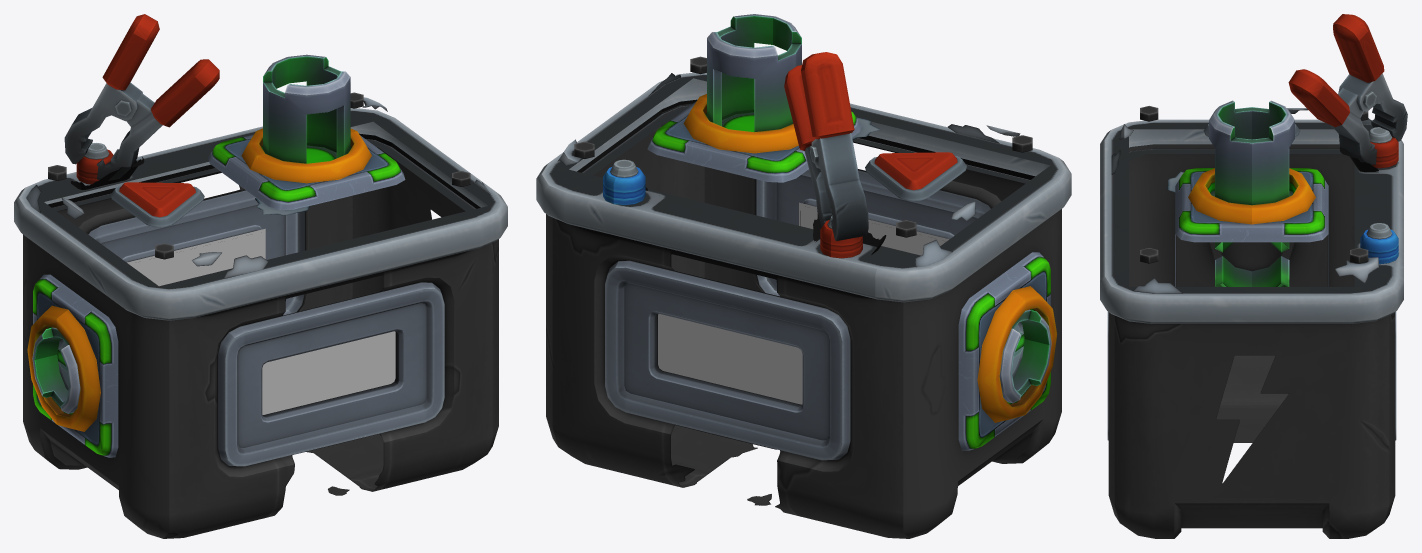
File: obj_containers_battery_pose0.fbx
3 renders of one model, left to right at view 1: azimuth 30°, elevation 25°; view 2: azimuth 150°, elevation 25°; view 3: azimuth 270°, elevation 25°, orthographic. The views are drawn at different scales.
Visible parts, largest first — view 1: obj_containers_battery_pose00; view 2: obj_containers_battery_pose00; view 3: obj_containers_battery_pose00.
Part boxes in pixels (<box>): obj_containers_battery_pose00: <box>14,14,507,538</box>; obj_containers_battery_pose00: <box>536,14,1071,538</box>; obj_containers_battery_pose00: <box>1100,14,1407,538</box>.
Size of the model in its own units: 4.4 by 4.51 by 3.01.
